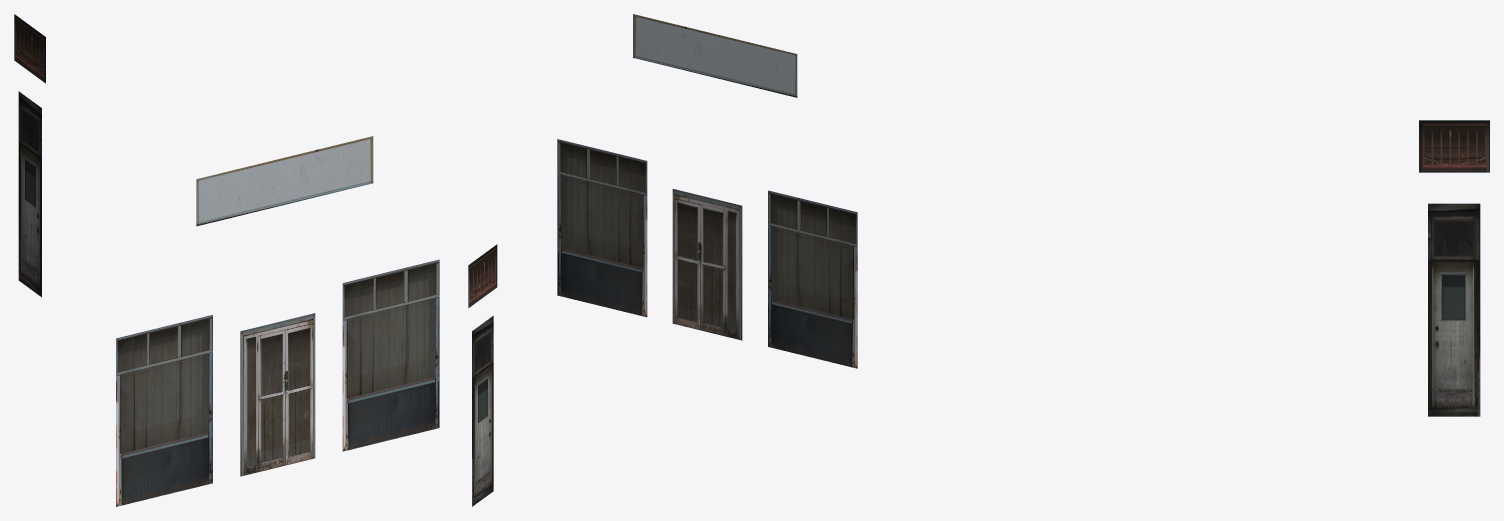
The model's file is rural_storesmall_2_rural_facade_flr_2_0_lev2.glb.
The picture shows the model from 3 angles, left to right: view 1: azimuth 30°, elevation 25°; view 2: azimuth 150°, elevation 25°; view 3: azimuth 270°, elevation 25°; orthographic projection. The views are drawn at different scales.
Visible parts, largest first — view 1: rural_storesmall_2_rural_facade_flr_2_0_lev2; view 2: rural_storesmall_2_rural_facade_flr_2_0_lev2; view 3: rural_storesmall_2_rural_facade_flr_2_0_lev2.
Boxes of the visible parts, x1,y1,x2,y2 form: rural_storesmall_2_rural_facade_flr_2_0_lev2: (14, 14, 439, 506); rural_storesmall_2_rural_facade_flr_2_0_lev2: (468, 14, 857, 506); rural_storesmall_2_rural_facade_flr_2_0_lev2: (1419, 120, 1489, 416).
Bounding box in the file's own units: 8.19 × 7.64 × 11.77.
Materials: 1 (1 with a texture image).
